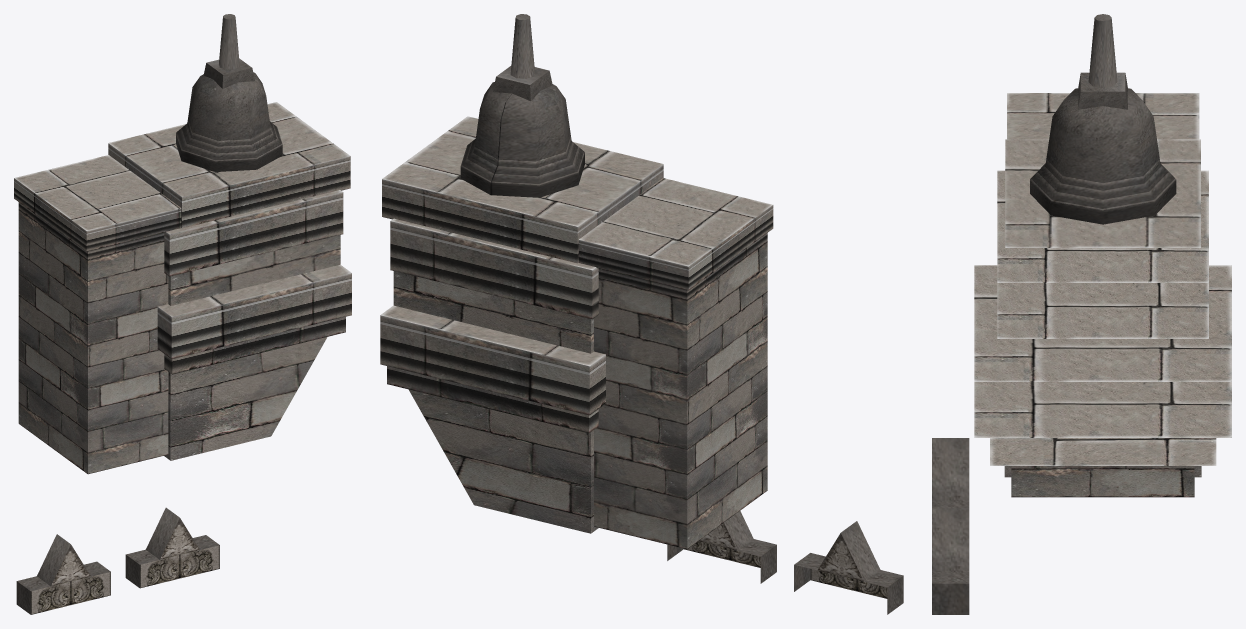
The model's file is Gate_D.FBX.
The picture shows the model from 3 angles, left to right: view 1: azimuth 30°, elevation 25°; view 2: azimuth 150°, elevation 25°; view 3: azimuth 270°, elevation 25°; orthographic projection. The views are drawn at different scales.
Visible parts, largest first — view 1: Gate_D; view 2: Gate_D; view 3: Gate_D.
Boxes of the visible parts, left/top/right/bottom form: Gate_D: left=14, top=14, right=351, bottom=614; Gate_D: left=380, top=14, right=903, bottom=614; Gate_D: left=932, top=14, right=1231, bottom=614.
Bounding box in the file's own units: 2.71 × 3.63 × 1.53.
